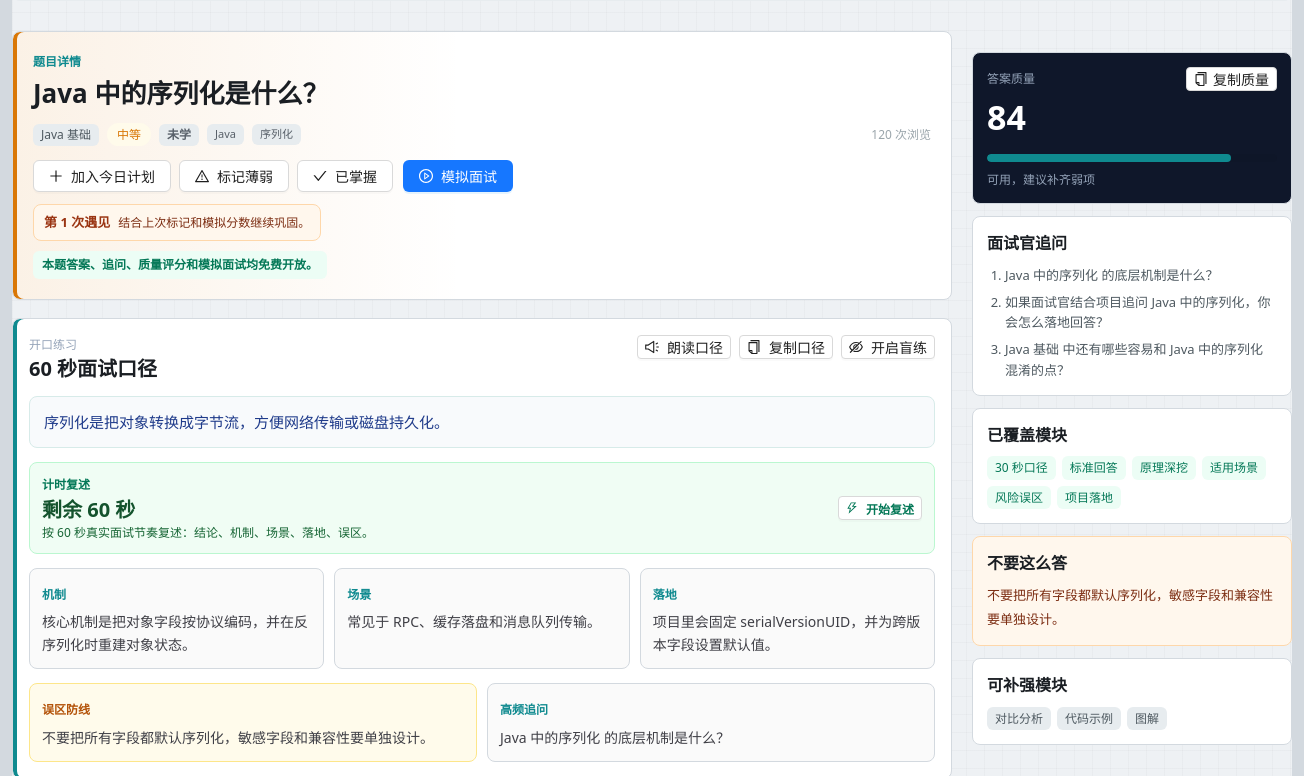
Scenario: QuestionDetail › tracks blind rehearsal acceptance checks before moving to mock interview
The width and height of the screenshot is (1304, 776).
Click the button "开启盲练".
click(888, 347)  # box top-left (841, 335), bottom-right (935, 359)
(page scrolled)
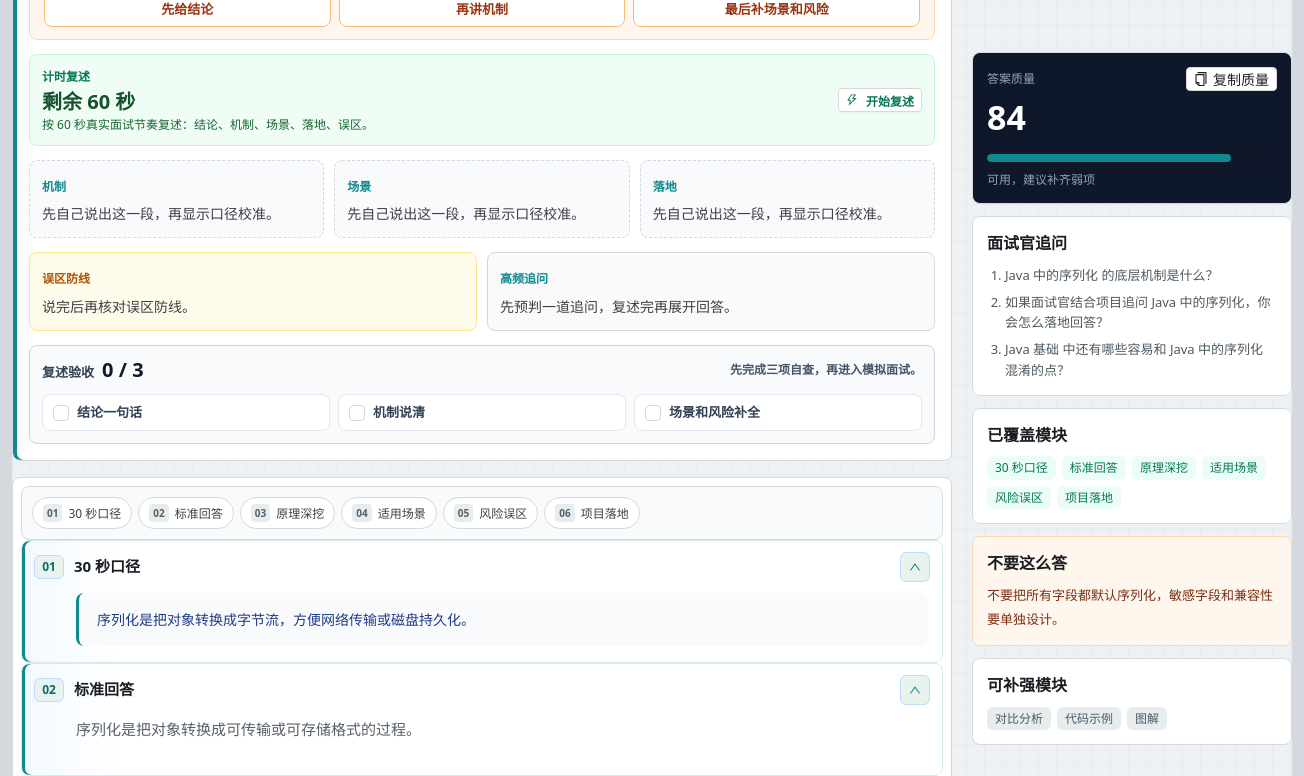
Check: the text "复述验收" is shown, box top-left (42, 362), bottom-right (94, 382)
Check: the text "0 / 3" is shown, box top-left (102, 358), bottom-right (144, 382)
Check: the text "先完成三项自查，再进入模拟面试。" is shown, box top-left (730, 361), bottom-right (922, 379)
Click the checkbox labelled "结论一句话".
click(110, 412)  # box top-left (42, 394), bottom-right (330, 431)
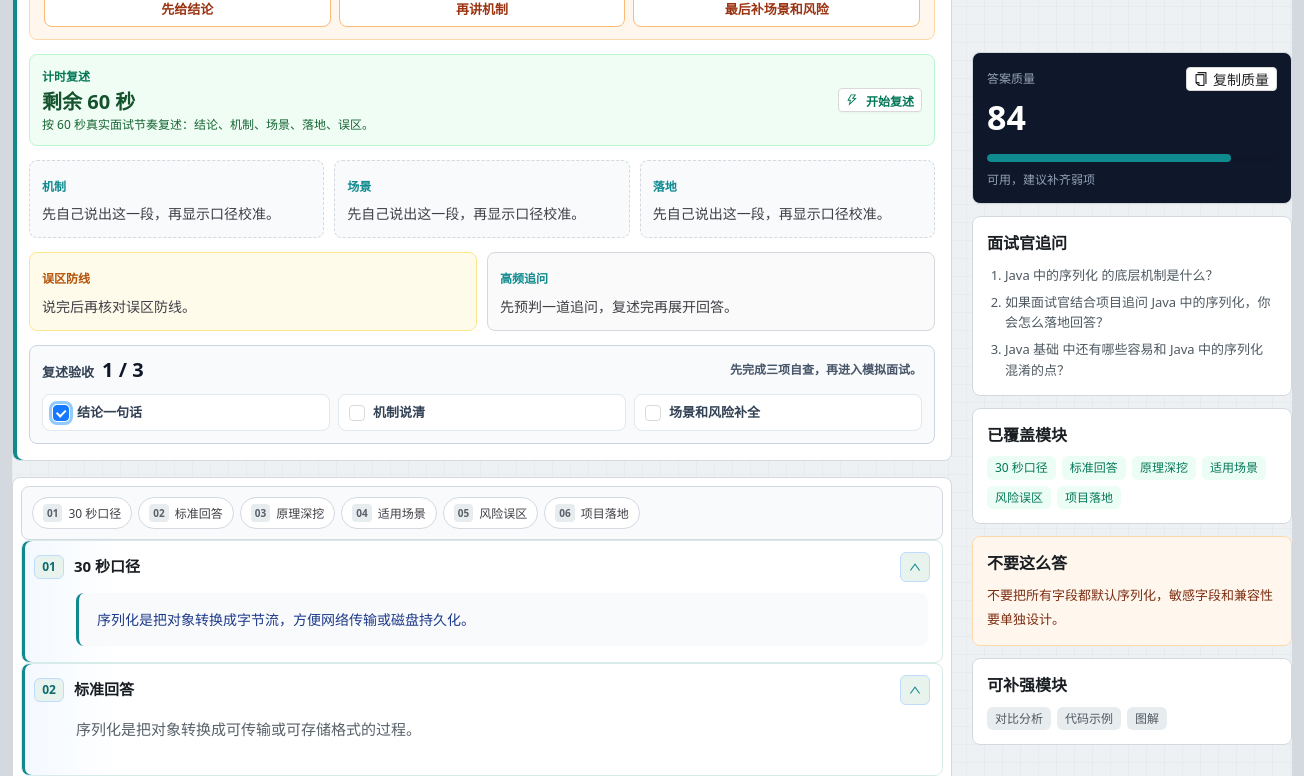
Click the checkbox labelled "机制说清".
click(399, 412)  # box top-left (338, 394), bottom-right (626, 431)
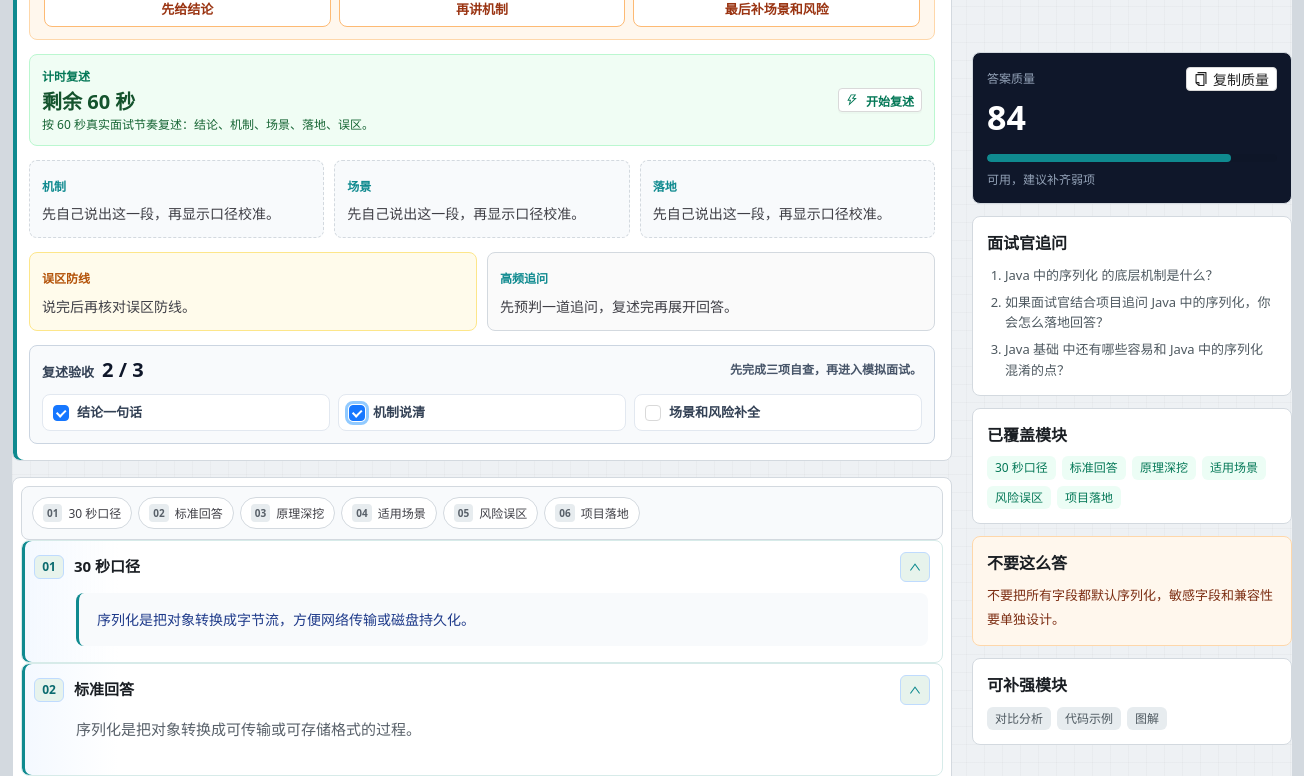
Check: the text "2 / 3" is shown, box top-left (102, 358), bottom-right (144, 382)
Click the checkbox labelled "场景和风险补全".
click(715, 412)  # box top-left (634, 394), bottom-right (922, 431)
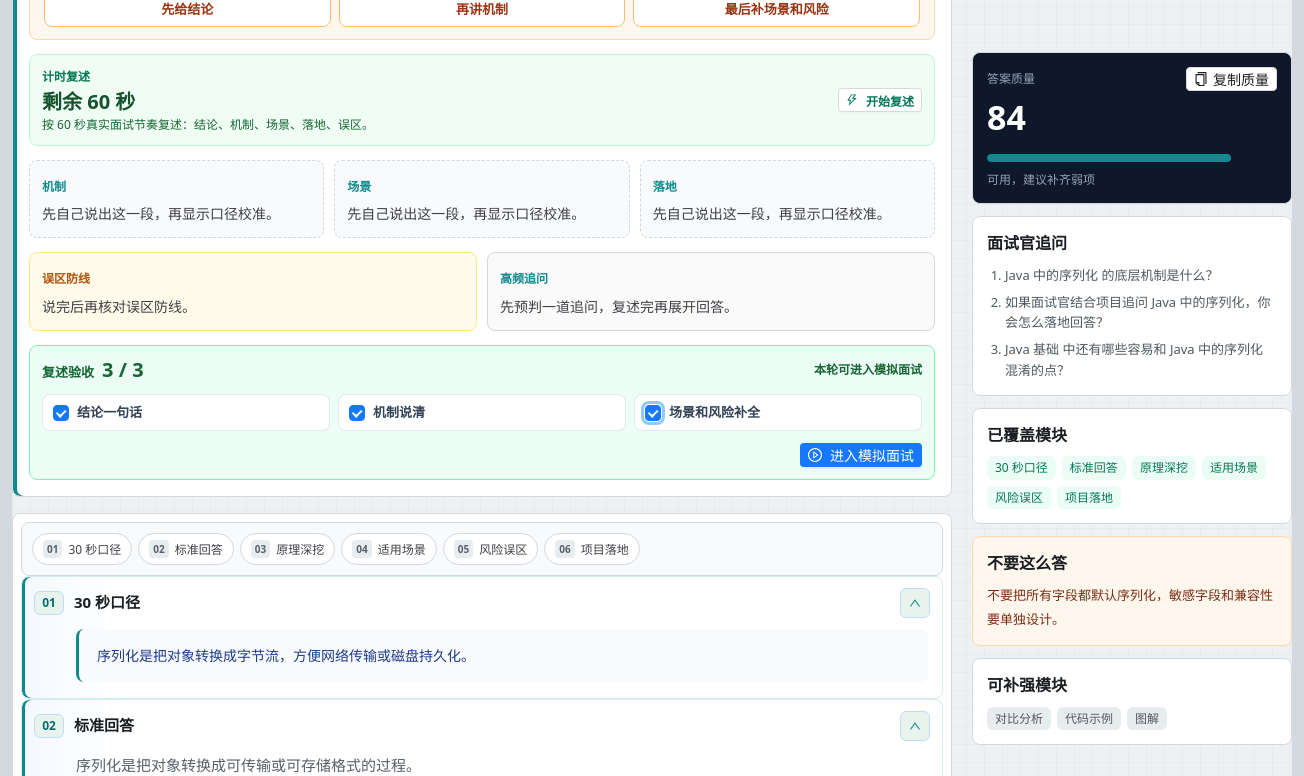
Check: the text "3 / 3" is shown, box top-left (102, 358), bottom-right (144, 382)
Check: the text "本轮可进入模拟面试" is shown, box top-left (814, 361), bottom-right (922, 379)
